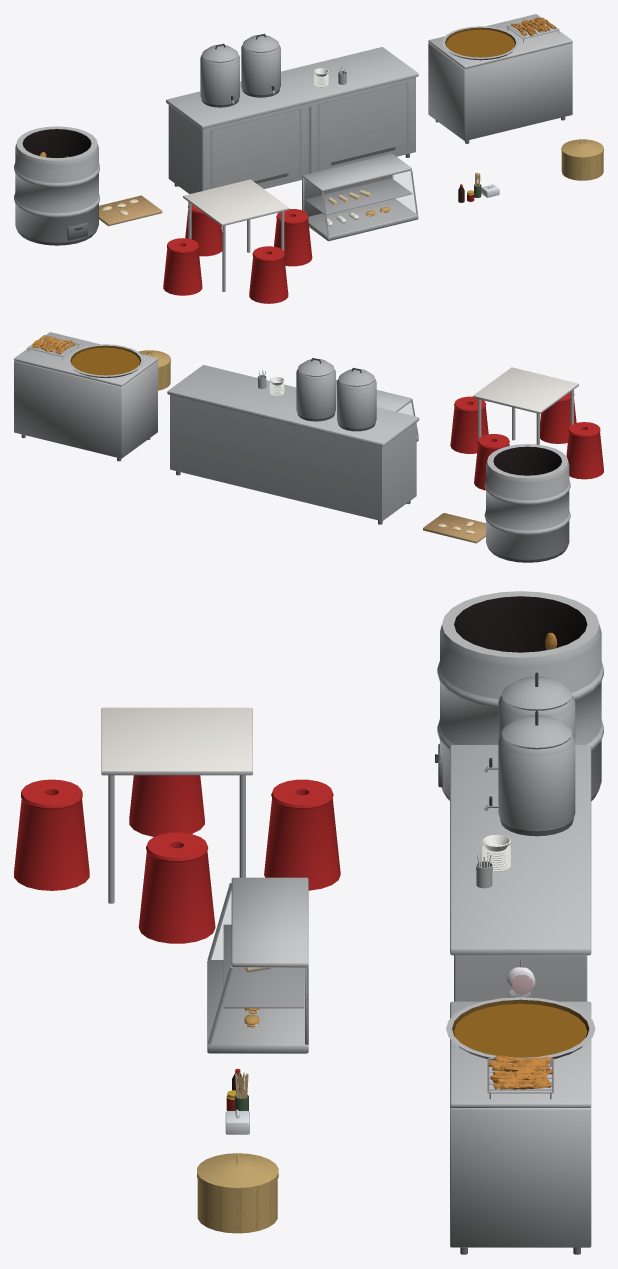
File: soy_props.glb
3 renders of one model, top to bottom at view 1: azimuth 30°, elevation 25°; view 2: azimuth 150°, elevation 25°; view 3: azimuth 270°, elevation 25°, orthographic. The views are drawn at different scales.
Parts seen in each view (by area): view 1: SOY_COUNTER, SOY_FRYER, SOY_OVEN, SOY_TABLE, SOY_DISPLAY, SOY_STEAMER, SOY_CONDIMENT; view 2: SOY_COUNTER, SOY_FRYER, SOY_OVEN, SOY_TABLE, SOY_DISPLAY, SOY_STEAMER; view 3: SOY_COUNTER, SOY_TABLE, SOY_FRYER, SOY_OVEN, SOY_DISPLAY, SOY_STEAMER, SOY_CONDIMENT.
Boxes of the visible parts, left/top/right/bottom form: SOY_COUNTER: left=166, top=33, right=418, bottom=193; SOY_FRYER: left=428, top=14, right=572, bottom=143; SOY_OVEN: left=14, top=126, right=162, bottom=245; SOY_TABLE: left=163, top=179, right=312, bottom=303; SOY_DISPLAY: left=302, top=153, right=418, bottom=241; SOY_STEAMER: left=561, top=139, right=603, bottom=180; SOY_CONDIMENT: left=458, top=172, right=499, bottom=202; SOY_COUNTER: left=167, top=358, right=419, bottom=524; SOY_FRYER: left=14, top=332, right=157, bottom=461; SOY_OVEN: left=423, top=444, right=570, bottom=562; SOY_TABLE: left=450, top=367, right=603, bottom=490; SOY_DISPLAY: left=336, top=380, right=418, bottom=441; SOY_STEAMER: left=138, top=350, right=170, bottom=390; SOY_COUNTER: left=450, top=672, right=591, bottom=1001; SOY_TABLE: left=14, top=707, right=340, bottom=943; SOY_FRYER: left=446, top=997, right=595, bottom=1254; SOY_OVEN: left=435, top=591, right=603, bottom=800; SOY_DISPLAY: left=207, top=877, right=308, bottom=1053; SOY_STEAMER: left=197, top=1153, right=278, bottom=1233; SOY_CONDIMENT: left=225, top=1068, right=249, bottom=1134.
Size of the model in its own units: 5.91 by 1.48 by 2.92.
Materials: 2 (1 with a texture image).
